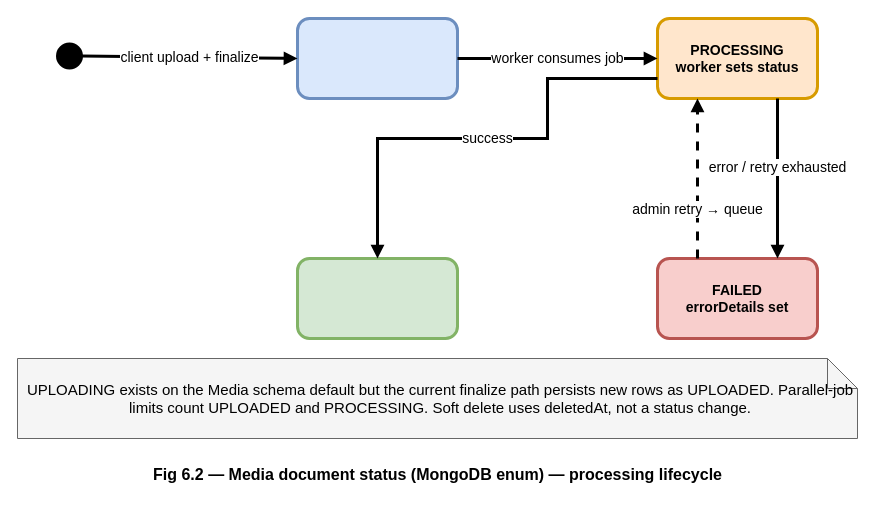
The diagram is 875 pixels wide and 516 high, and some of its shapes have lost their labels. The centre of each missing label's shape, as x and y in pixels:
COMPLETED transcript ready: (377,298)
UPLOADED POST /finalize creates doc + job enqueued: (377,58)
